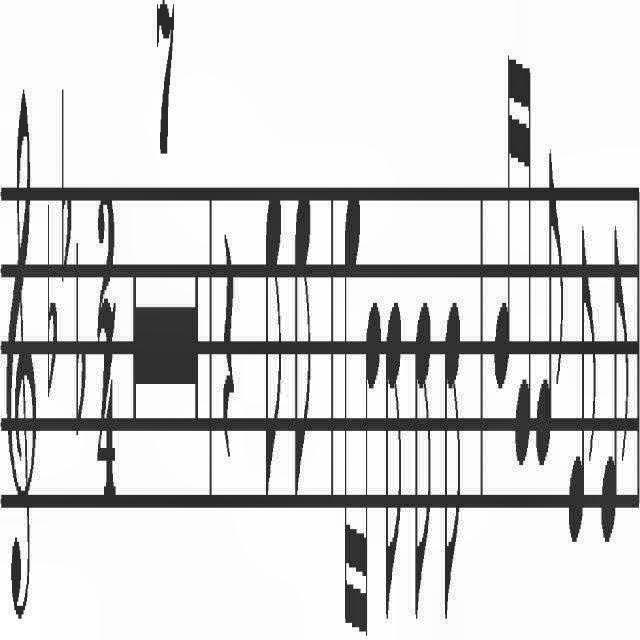Bass-clef: (0, 0, 40, 640)
Bemol: (52, 70, 72, 282), (42, 176, 58, 408), (73, 205, 87, 460)
Eighth-note: (532, 117, 566, 495), (440, 268, 472, 640), (566, 190, 598, 554), (600, 195, 632, 550), (259, 167, 287, 541), (291, 163, 317, 522), (382, 260, 406, 640), (413, 266, 435, 630)
Quarter-rest: (217, 177, 239, 508)
Sixteenth-note: (489, 17, 517, 419), (336, 163, 359, 640), (515, 49, 533, 498), (362, 291, 382, 640)
